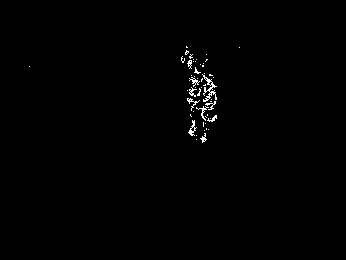person: (196, 70, 218, 144), (186, 63, 201, 140)
